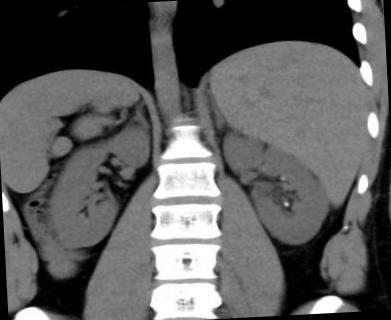Tas_Var: (282, 201, 289, 209), (280, 177, 285, 180)
